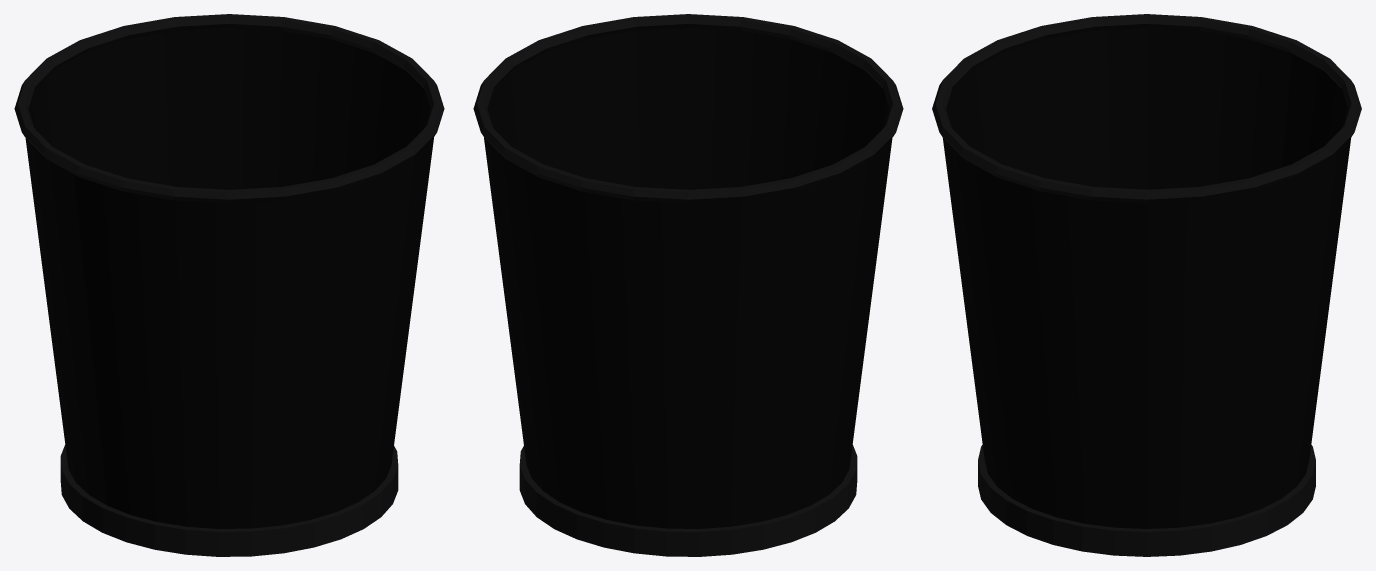
The model's file is Corbeille_a_papier.fbx.
3 views of the same model, side by side, from view 1: azimuth 30°, elevation 25°; view 2: azimuth 150°, elevation 25°; view 3: azimuth 270°, elevation 25° (orthographic).
Parts seen in each view (by area): view 1: Cylinder, Torus; view 2: Cylinder, Torus; view 3: Cylinder, Torus.
Boxes of the visible parts, x1,y1,x2,y2 form: Cylinder: [25, 27, 433, 556]; Torus: [14, 14, 444, 203]; Cylinder: [484, 27, 892, 556]; Torus: [473, 14, 903, 203]; Cylinder: [943, 28, 1350, 556]; Torus: [932, 14, 1361, 203].
Size of the model in its own units: 62 by 60.83 by 62.
Materials: 2 (1 with a texture image).
